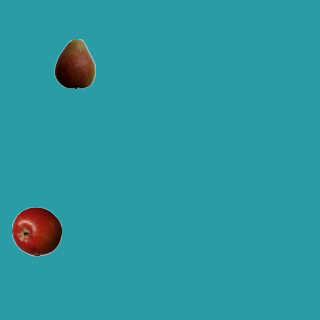Apple Braeburn: (11, 206, 61, 256)
Pear Forelle: (49, 38, 99, 88)
